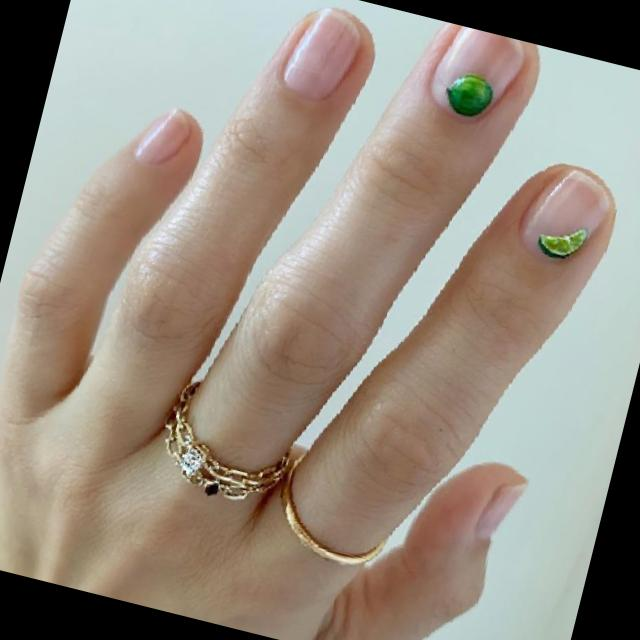Nail: (430, 26, 524, 117), (519, 167, 613, 257), (287, 8, 362, 97), (135, 109, 196, 165), (474, 482, 524, 539)
